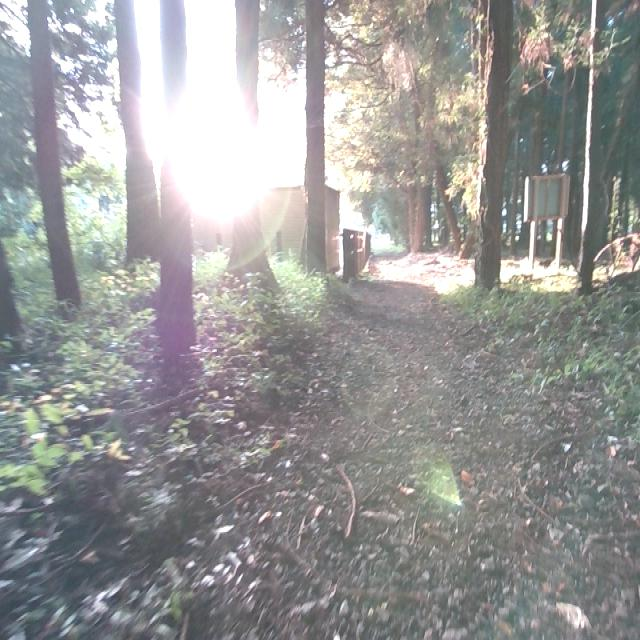artifact: (184, 188, 347, 287), (522, 168, 572, 285), (336, 226, 374, 289)
tree: (20, 0, 87, 315), (571, 0, 640, 293), (148, 0, 197, 352), (214, 0, 271, 298), (467, 0, 518, 296), (107, 0, 157, 266), (393, 0, 440, 251), (303, 0, 331, 296)
